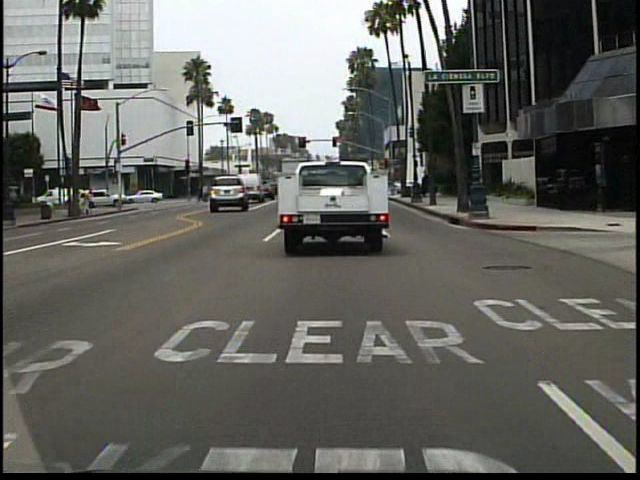person: (86, 187, 99, 213)
